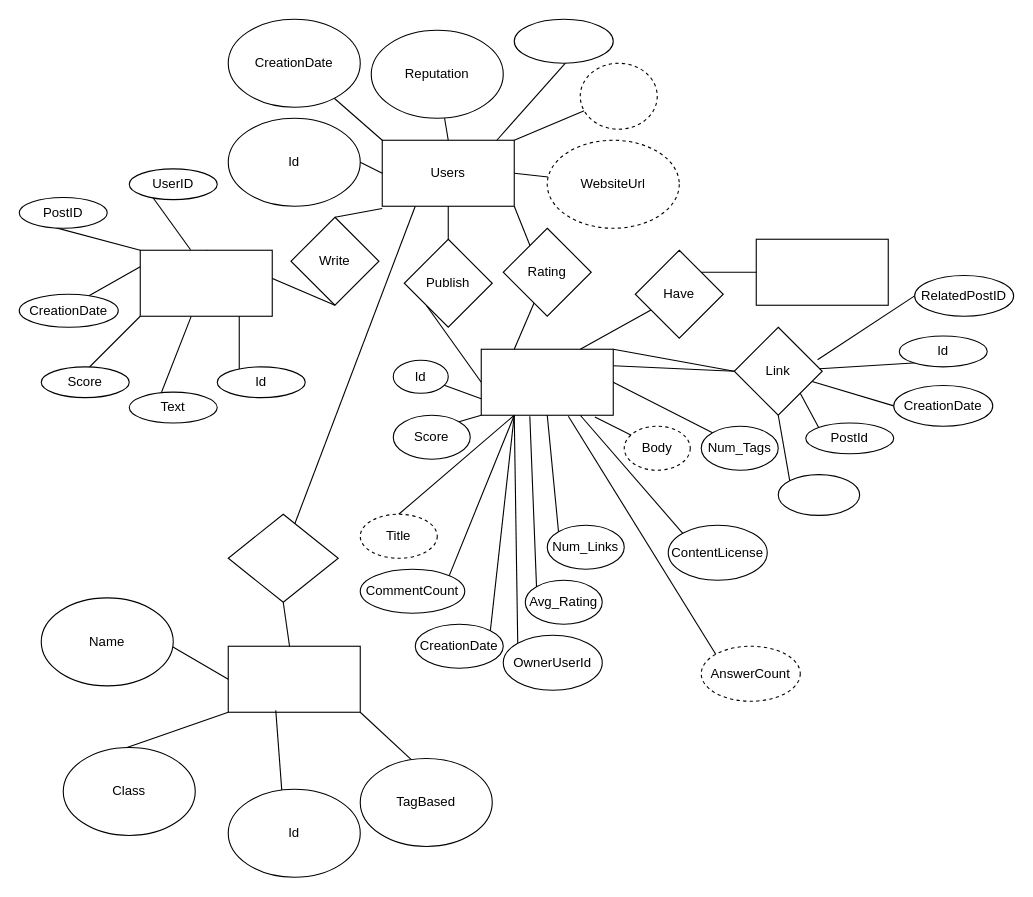
Image size: 1033x897. Some labels were removed from this diagram. Here are the shapes that lost their labels. From the top down, the centre of each, then its label:
the point at 563,40: Num_Badges
the point at 618,95: AboutMe
the point at 205,282: Comments
the point at 821,271: Tags
the point at 546,381: Posts
the point at 818,494: LinkTypeId
the point at 282,557: HaveBadges
the point at 293,678: Badges
